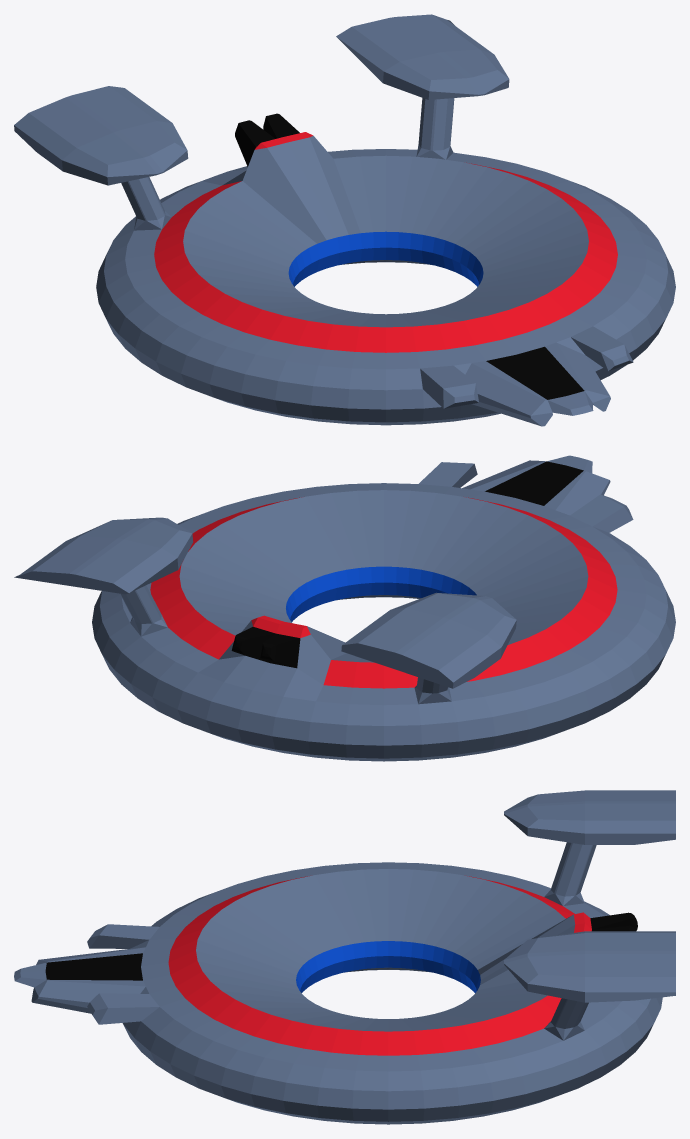
Rendered from ship_5.fbx.
The picture shows the model from 3 angles, top to bottom: view 1: azimuth 30°, elevation 25°; view 2: azimuth 150°, elevation 25°; view 3: azimuth 270°, elevation 25°; orthographic projection. The views are drawn at different scales.
Visible parts, largest first — view 1: ship_5; view 2: ship_5; view 3: ship_5.
Part boxes in pixels (bbox=[...]): ship_5: bbox=[14, 14, 675, 426]; ship_5: bbox=[14, 455, 675, 761]; ship_5: bbox=[14, 790, 675, 1124].
Size of the model in its own units: 250 by 79.15 by 301.
